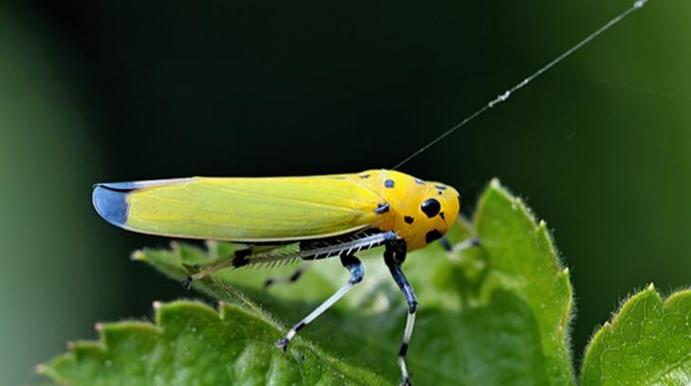Cicadellidae: (91, 168, 479, 386)
